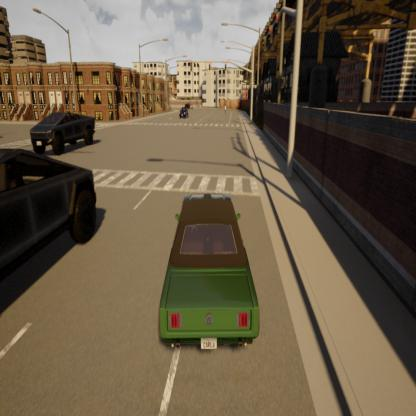Cars: (0, 134, 109, 336), (151, 182, 265, 362), (29, 98, 95, 155), (179, 106, 190, 122), (184, 98, 194, 114)
